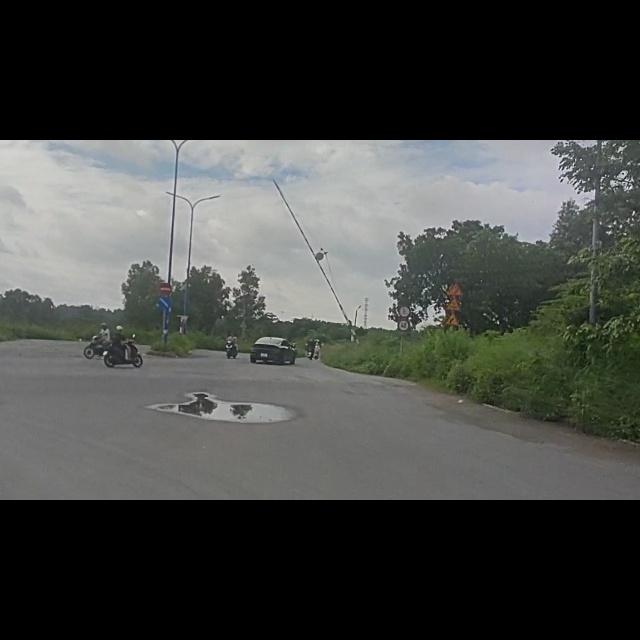bien_cam: (441, 305, 465, 333), (157, 276, 174, 306), (444, 280, 464, 305), (447, 250, 465, 277), (158, 251, 173, 276), (399, 316, 411, 343)
